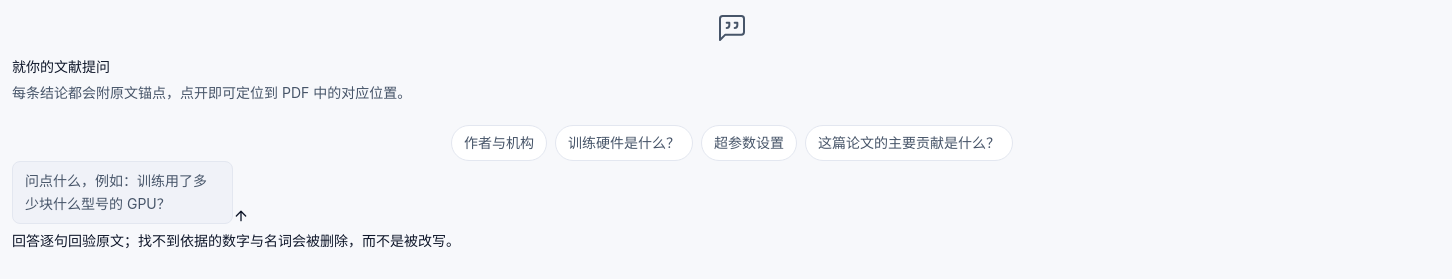
chat › shows the refusal card when the backend refuses
Type "How many GPUs?" into the text box named "提问" at (122, 193), box top-left (12, 161), bottom-right (233, 224)
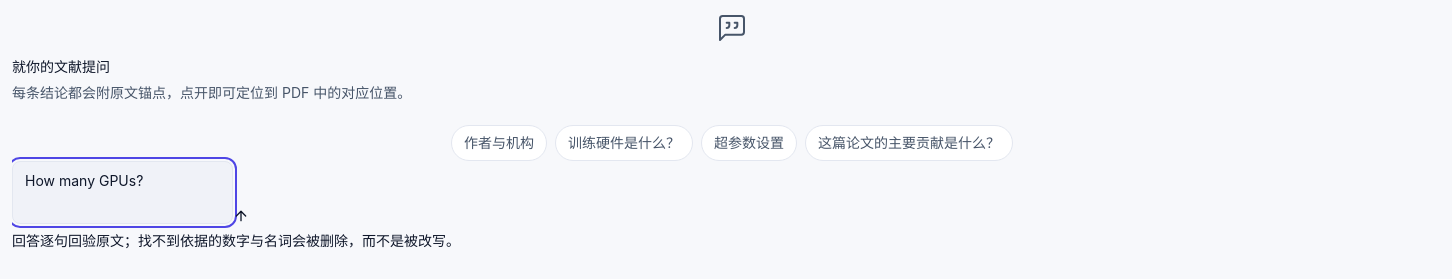
Click the button named "发送" at (241, 216), box top-left (233, 208), bottom-right (249, 224)
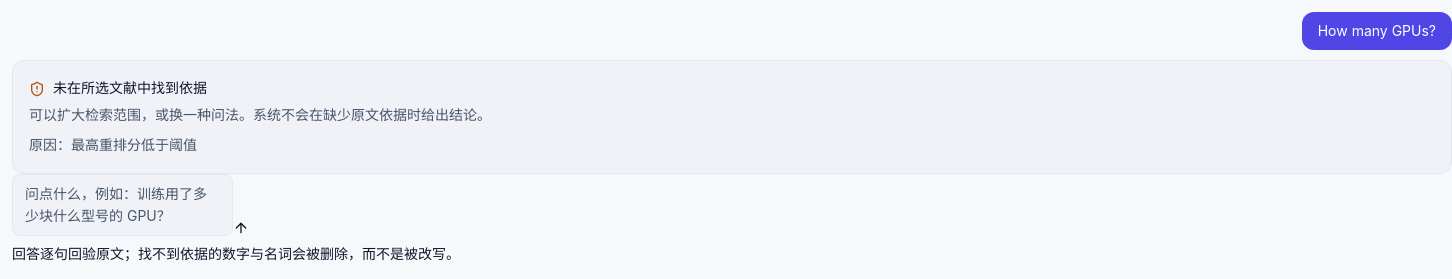
expect the element with test id "qa-refusal" is shown: met, box top-left (12, 60), bottom-right (1451, 174)
expect the text "未在所选文献中找到依据" is shown: met, box top-left (29, 79), bottom-right (207, 97)
expect the text "原因：最高重排分低于阈值" is shown: met, box top-left (29, 136), bottom-right (197, 153)
